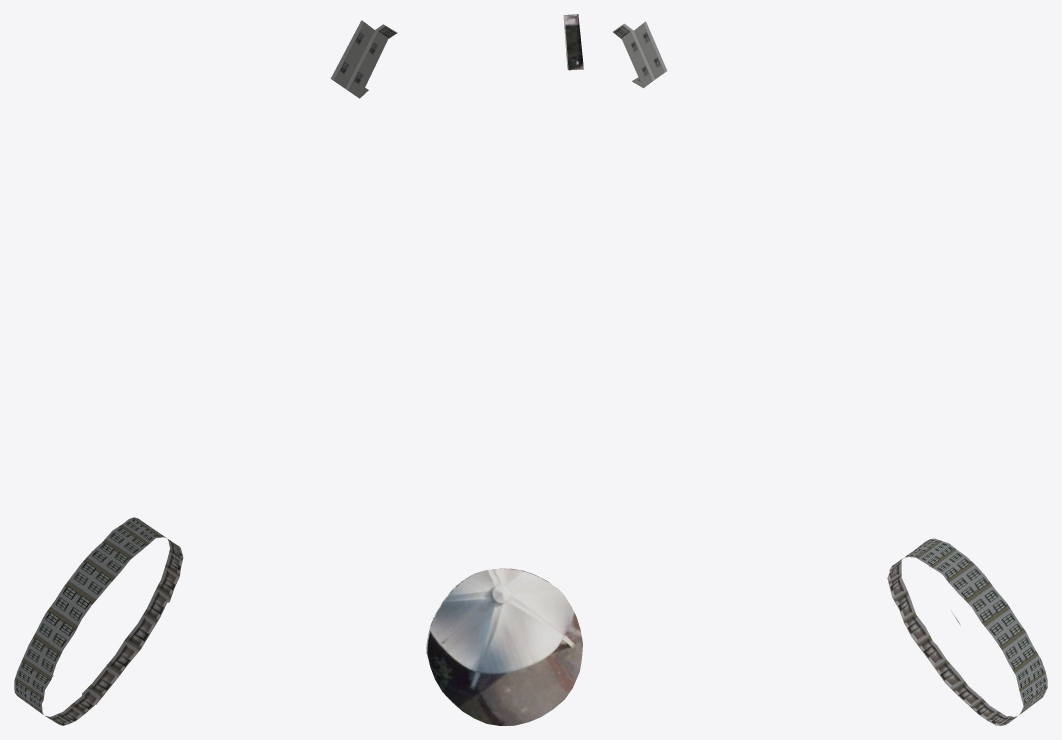
The model's file is tile_LOD8_r0_c2.glb.
The picture shows the model from 3 angles, left to right: view 1: azimuth 30°, elevation 25°; view 2: azimuth 150°, elevation 25°; view 3: azimuth 270°, elevation 25°; orthographic projection. The views are drawn at different scales.
Bounding box in the file's own units: 44.5 × 172 × 91.
Materials: 8 (8 with a texture image).
